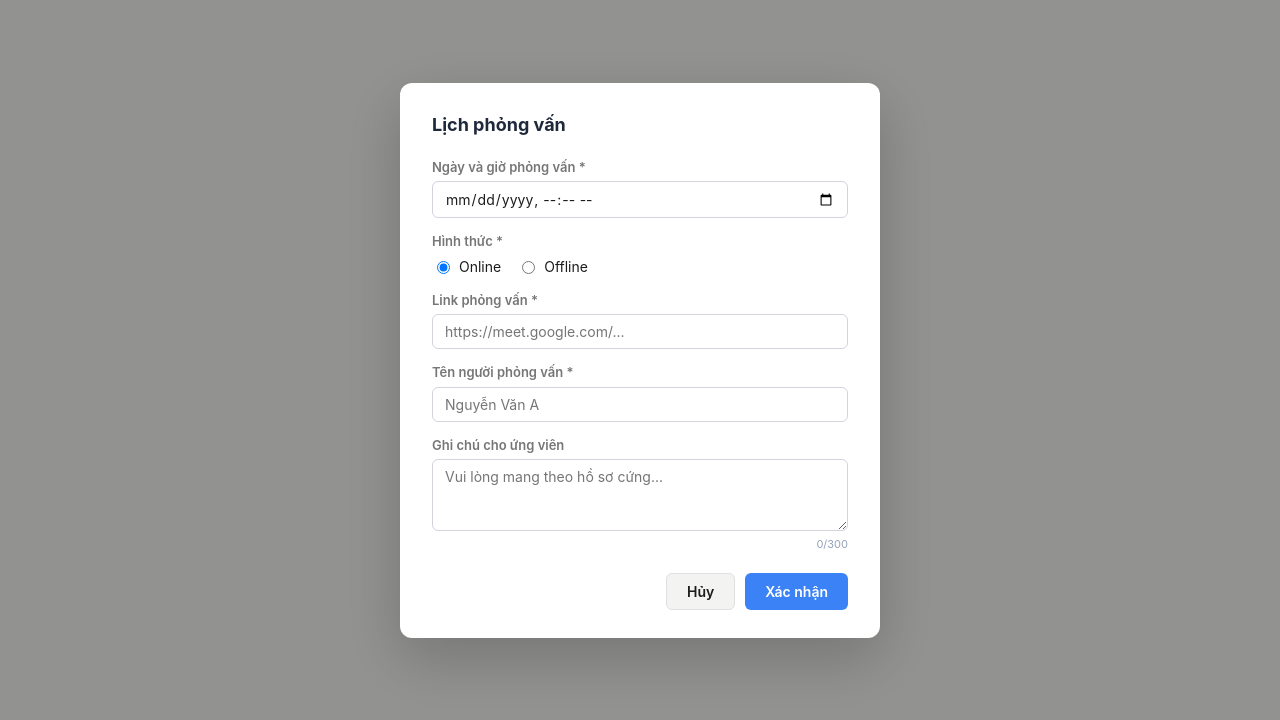
Scenario: ScheduleModal — validation › should show validation error in Vietnamese when datetime is empty and confirm clicked
Click the button "Xác nhận": (797, 591) [745, 572, 848, 610]
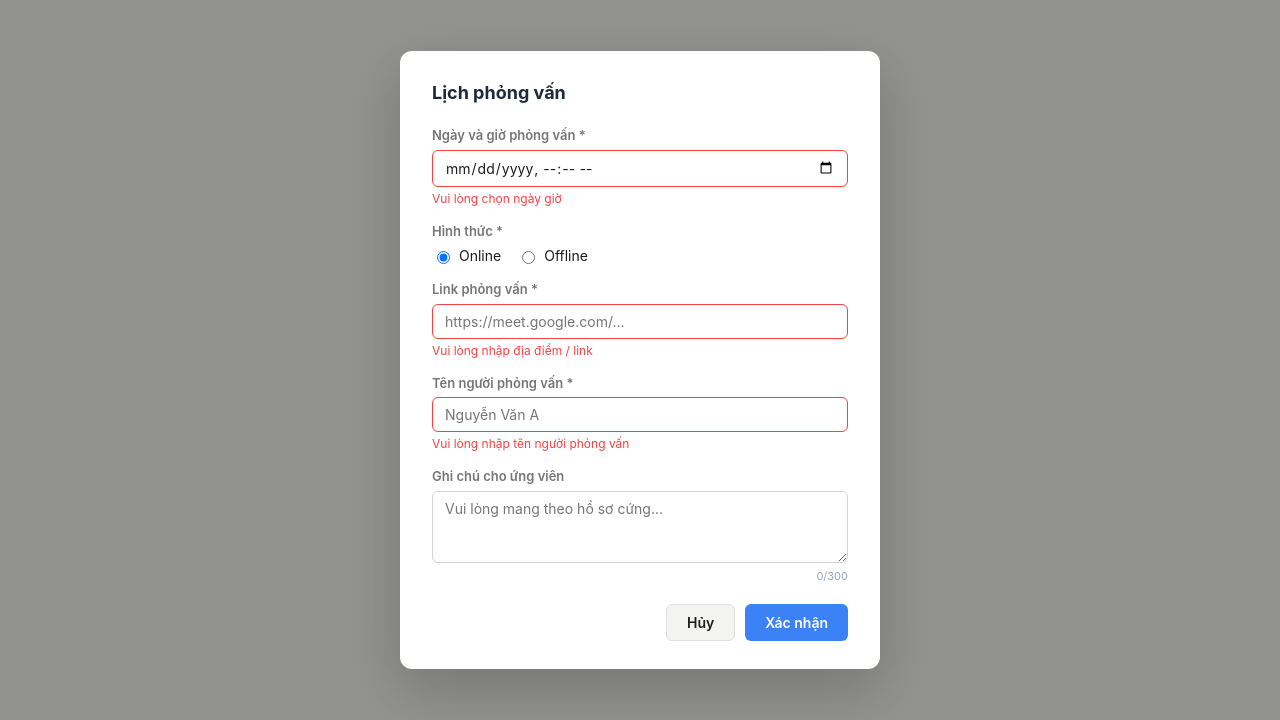
Result: the text "Vui lòng chọn ngày giờ" is shown at [432, 190, 562, 206]
